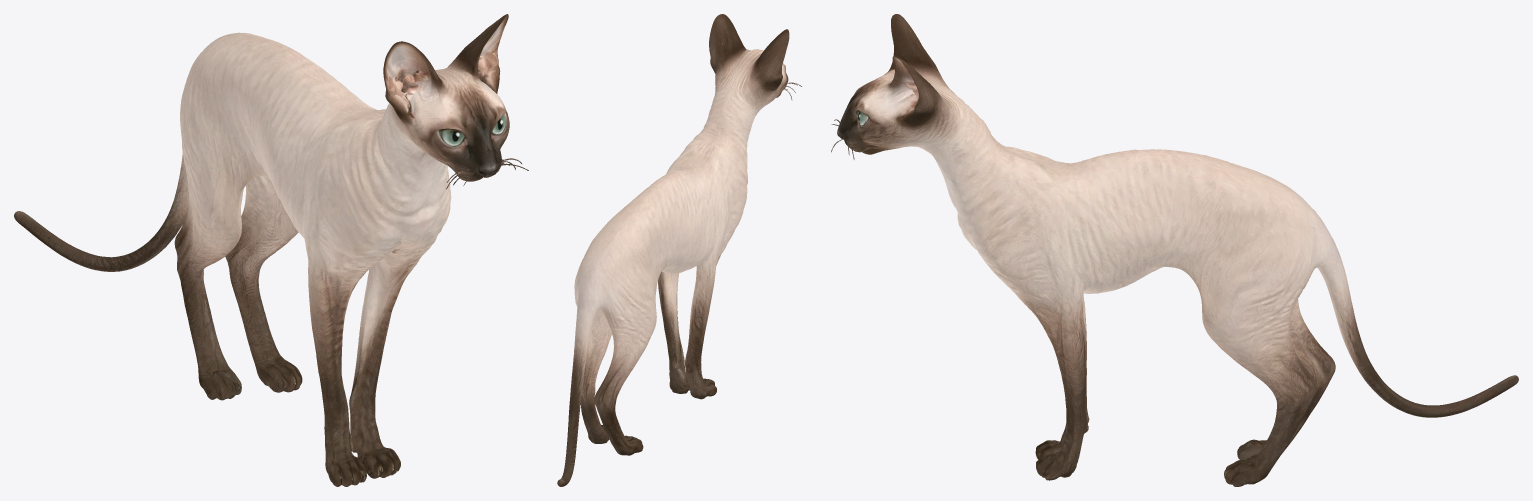
File: meshy-cornishrex.glb
3 views of the same model, side by side, from view 1: azimuth 30°, elevation 25°; view 2: azimuth 150°, elevation 25°; view 3: azimuth 270°, elevation 25° (orthographic). The views are drawn at different scales.
Bounding box in the file's own units: 0.3394 × 1.32 × 1.9.
1 material, 1 textured.
